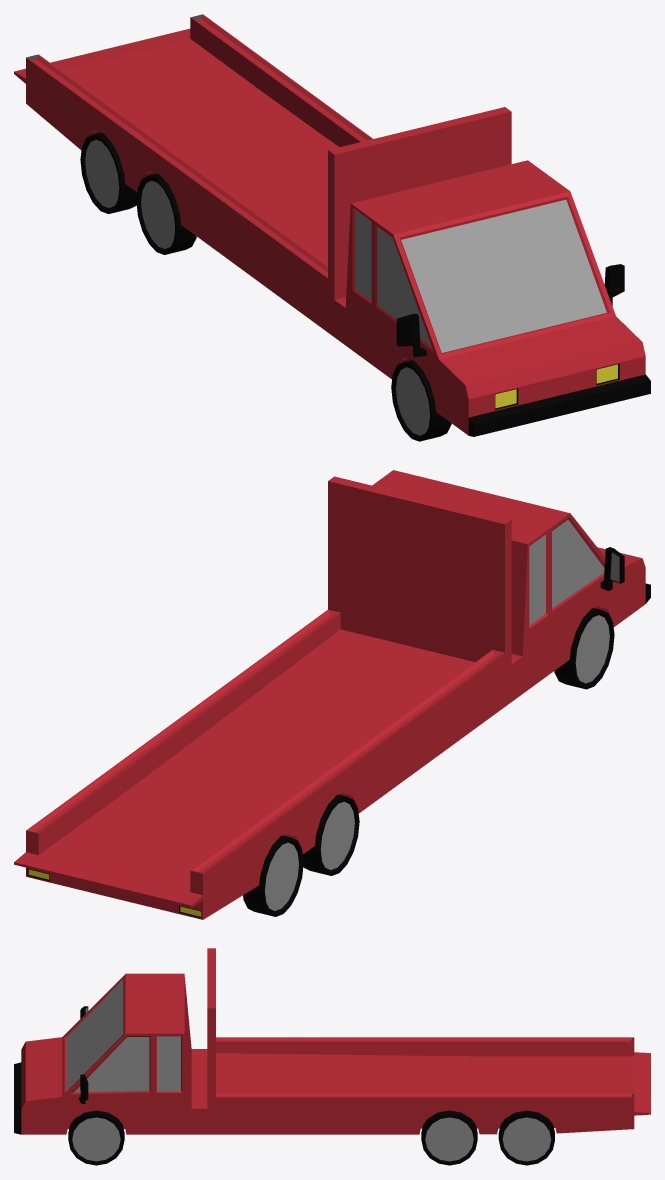
The model's file is Flatback Truck 2.fbx.
The picture shows the model from 3 angles, top to bottom: view 1: azimuth 30°, elevation 25°; view 2: azimuth 150°, elevation 25°; view 3: azimuth 270°, elevation 25°; orthographic projection. The views are drawn at different scales.
Visible parts, largest first — view 1: Flatback Truck Body.002, Wheel RR 1.002, Wheel FR.026, Wheel RR 2.002; view 2: Flatback Truck Body.002, Wheel RR 2.002, Wheel FR.026, Wheel RR 1.002; view 3: Flatback Truck Body.002, Wheel RL 1.002, Wheel FL.026, Wheel RL 2.002.
Part boxes in pixels (box(x1,y1,x2,y2)): Flatback Truck Body.002: box(14, 14, 650, 436); Wheel RR 1.002: box(136, 173, 196, 254); Wheel FR.026: box(391, 360, 451, 441); Wheel RR 2.002: box(80, 132, 136, 213); Flatback Truck Body.002: box(14, 470, 650, 919); Wheel RR 2.002: box(243, 835, 303, 916); Wheel FR.026: box(554, 608, 614, 689); Wheel RR 1.002: box(303, 794, 359, 875); Flatback Truck Body.002: box(14, 948, 650, 1134); Wheel RL 1.002: box(421, 1110, 477, 1165); Wheel FL.026: box(68, 1110, 124, 1165); Wheel RL 2.002: box(498, 1110, 554, 1165).
Size of the model in its own units: 2.42 by 2.3 by 8.53.
